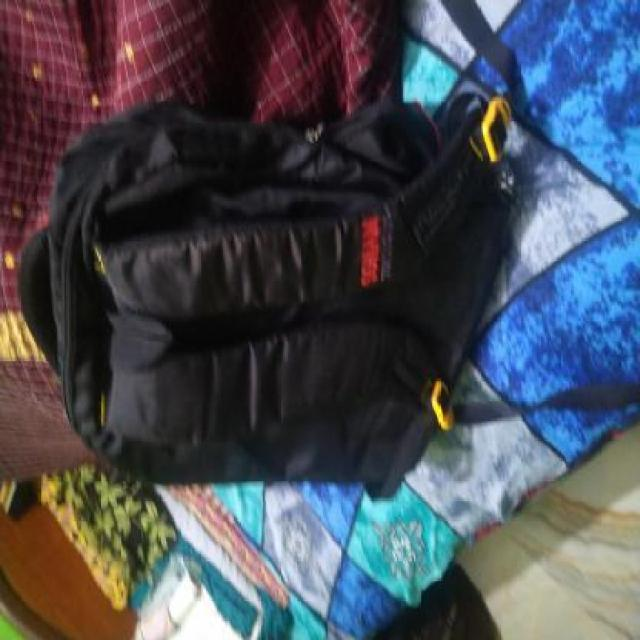backpack: (15, 94, 523, 508)
